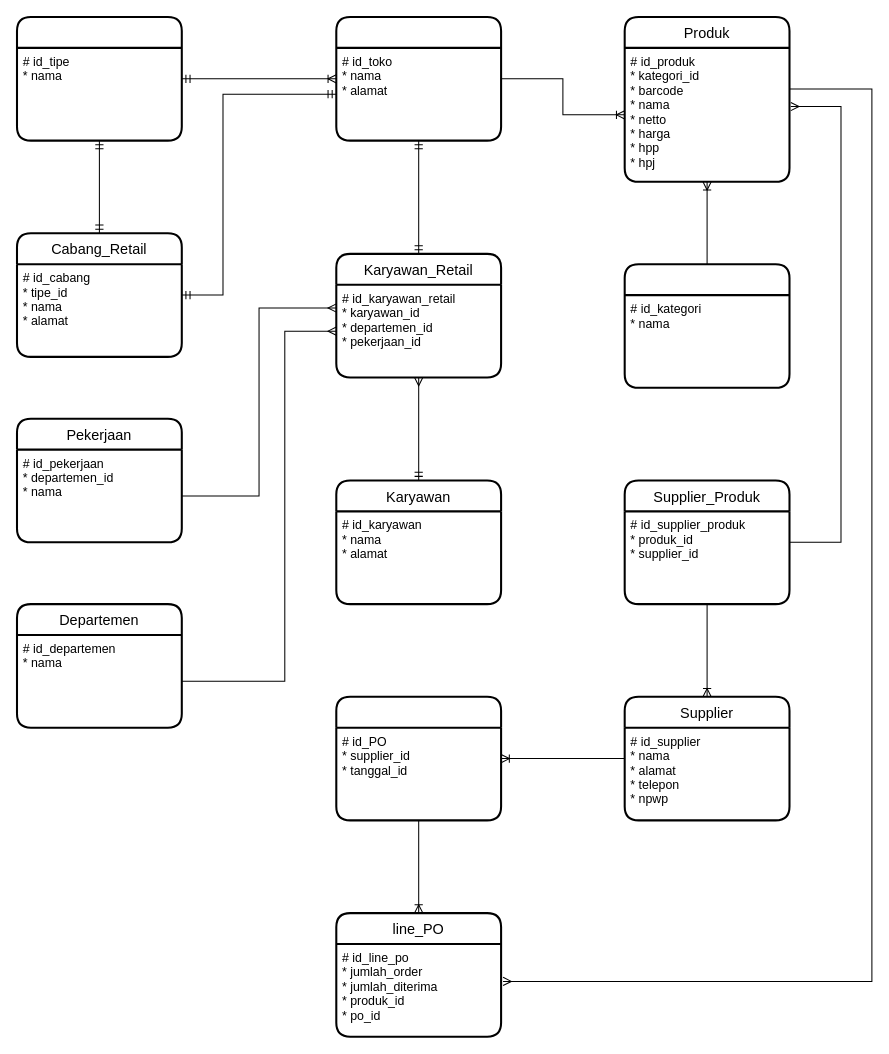
This 889x1054 diagram has some shape labels left out. The box of each missing label's shape, as (x1, y1, x2, y2) in pixels:
Kategori_Produk: (623, 263, 790, 388)
PO: (335, 695, 502, 821)
Tipe_Retail: (15, 15, 182, 141)
Toko_Retail: (335, 15, 502, 141)
